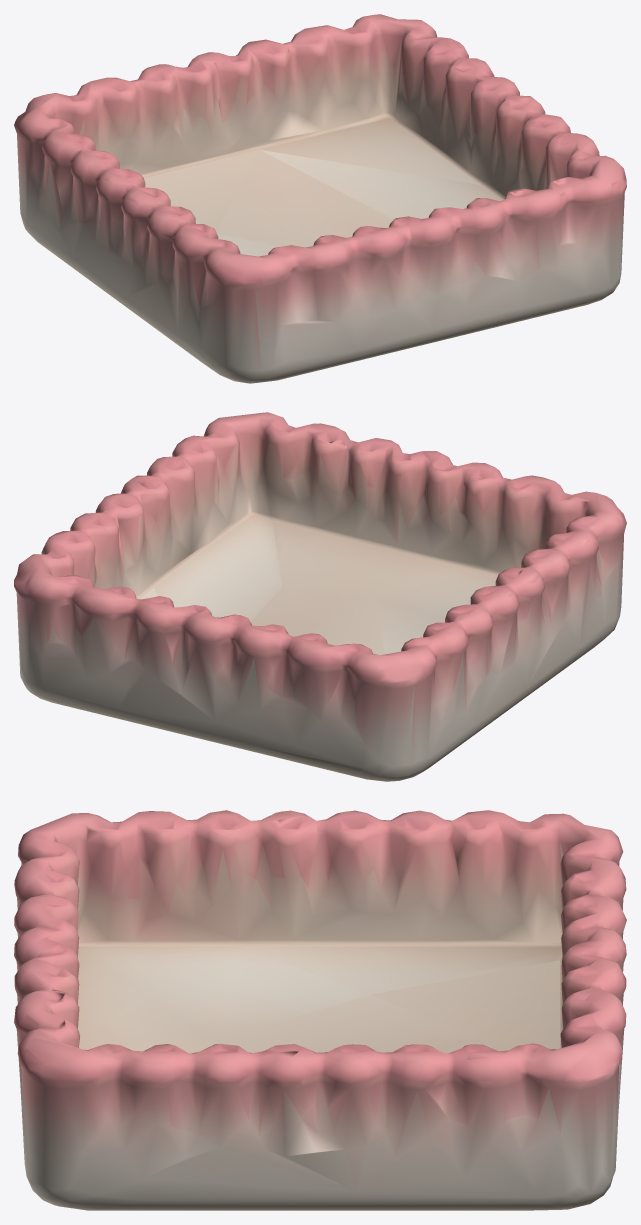
File: tray_dessert.glb
3 views of the same model, one above another, from view 1: azimuth 30°, elevation 25°; view 2: azimuth 150°, elevation 25°; view 3: azimuth 270°, elevation 25° (orthographic). The views are drawn at different scales.
Visible parts, largest first — view 1: tray_dessert; view 2: tray_dessert; view 3: tray_dessert.
Part boxes in pixels (x1,y1,x2,y2): tray_dessert: (14, 14, 626, 383); tray_dessert: (14, 412, 626, 781); tray_dessert: (14, 810, 626, 1210).
Bounding box in the file's own units: 0.9993 × 0.2997 × 1.
Materials: 1 (1 with a texture image).
